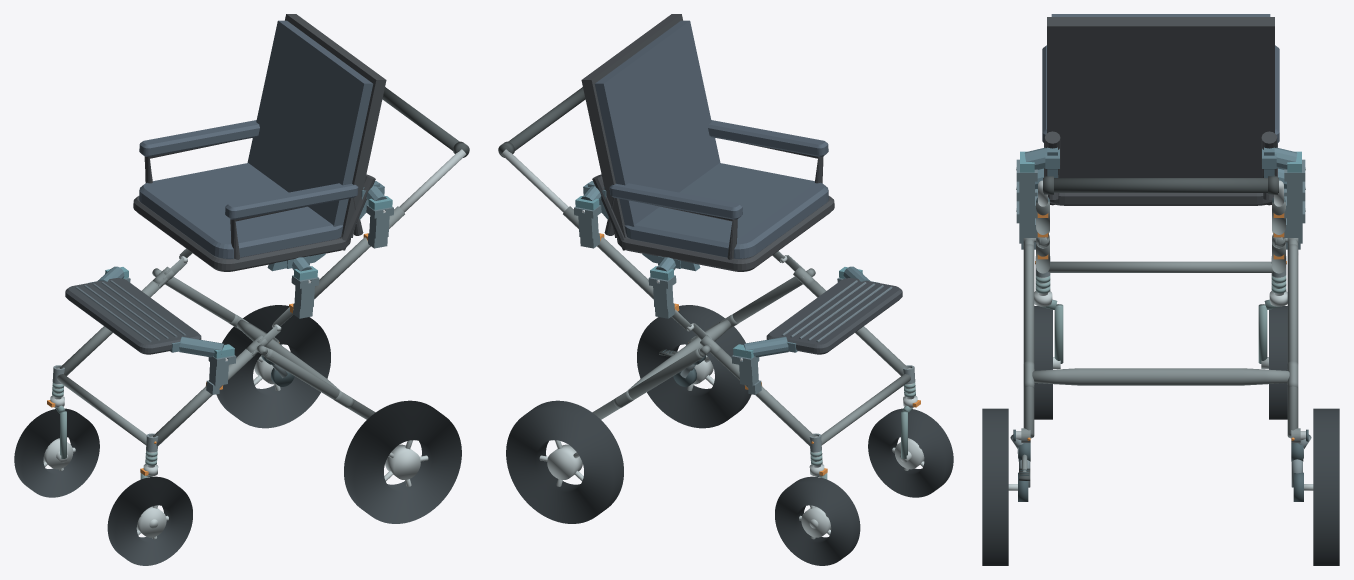
File: S09_w650_state1_wheel_L.glb
3 renders of one model, left to right at view 1: azimuth 30°, elevation 25°; view 2: azimuth 150°, elevation 25°; view 3: azimuth 270°, elevation 25°, orthographic. The views are drawn at different scales.
Visible parts, largest first — view 1: S09_Cabin, RL_tire.008, RR_tire.008, S09_Cabin_Footrest, FL_tire.008, FR_tire.008, S09_Cabin_Footrest_LowDocks, V46_rear_leg_-1.009, main_lower_-1.009, round_handle.008, front_fixed_round_tube.008, main_upper_-1.009 (+9 smaller); view 2: S09_Cabin, RR_tire.008, RL_tire.008, S09_Cabin_Footrest, FR_tire.008, FL_tire.008, S09_Cabin_Footrest_LowDocks, V46_rear_leg_1.009, main_lower_1.009, round_handle.008, front_fixed_round_tube.008, main_upper_1.009 (+9 smaller); view 3: S09_Cabin, V46_rearbar.009, RL_tire.008, RR_tire.008, round_handle.008, front_fixed_round_tube.008, V46_rear_leg_-1.009, V46_rear_leg_1.009, FL_tire.008, FR_tire.008, S09_Cabin_HighDocks, Universal_Cabin_Receiver_H_1 (+5 smaller).
Part boxes in pixels (bbox=[...]): S09_Cabin: bbox=[133, 14, 386, 271]; RL_tire.008: bbox=[344, 400, 461, 523]; RR_tire.008: bbox=[216, 305, 330, 428]; S09_Cabin_Footrest: bbox=[65, 278, 201, 354]; FL_tire.008: bbox=[107, 476, 192, 565]; FR_tire.008: bbox=[14, 408, 99, 497]; S09_Cabin_Footrest_LowDocks: bbox=[89, 266, 234, 361]; V46_rear_leg_-1.009: bbox=[264, 348, 375, 419]; main_lower_-1.009: bbox=[153, 349, 256, 446]; round_handle.008: bbox=[382, 87, 468, 156]; front_fixed_round_tube.008: bbox=[57, 374, 146, 445]; main_upper_-1.009: bbox=[294, 206, 404, 303]; S09_Cabin: bbox=[581, 14, 834, 271]; RR_tire.008: bbox=[506, 400, 623, 523]; RL_tire.008: bbox=[637, 305, 751, 428]; S09_Cabin_Footrest: bbox=[766, 278, 902, 354]; FR_tire.008: bbox=[775, 476, 860, 565]; FL_tire.008: bbox=[868, 408, 953, 497]; S09_Cabin_Footrest_LowDocks: bbox=[733, 266, 878, 361]; V46_rear_leg_1.009: bbox=[592, 348, 703, 419]; main_lower_1.009: bbox=[711, 349, 814, 446]; round_handle.008: bbox=[499, 87, 585, 156]; front_fixed_round_tube.008: bbox=[821, 374, 910, 445]; main_upper_1.009: bbox=[563, 206, 673, 303]; S09_Cabin: bbox=[1042, 14, 1279, 205]; V46_rearbar.009: bbox=[1032, 368, 1289, 385]; RL_tire.008: bbox=[982, 408, 1008, 565]; RR_tire.008: bbox=[1313, 408, 1339, 565]; round_handle.008: bbox=[1043, 178, 1278, 192]; front_fixed_round_tube.008: bbox=[1048, 261, 1273, 272]; V46_rear_leg_-1.009: bbox=[1023, 244, 1034, 438]; V46_rear_leg_1.009: bbox=[1287, 244, 1298, 438]; FL_tire.008: bbox=[1034, 306, 1052, 419]; FR_tire.008: bbox=[1269, 306, 1287, 419]; S09_Cabin_HighDocks: bbox=[1016, 147, 1305, 172]; Universal_Cabin_Receiver_H_1: bbox=[1284, 159, 1305, 218].
Size of the model in its own units: 1.2 by 1.36 by 0.8171.
